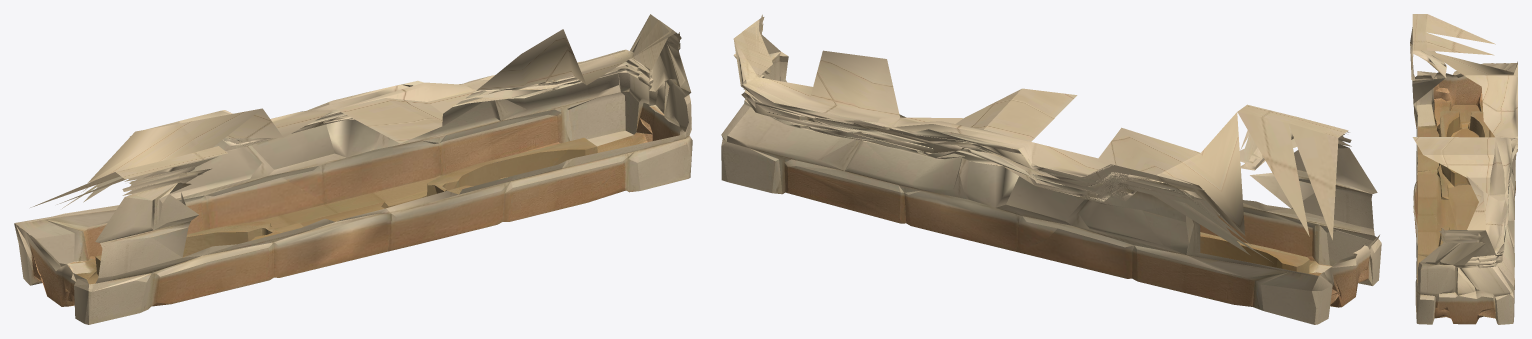
Rendered from wall_wreck.glb.
The picture shows the model from 3 angles, left to right: view 1: azimuth 30°, elevation 25°; view 2: azimuth 150°, elevation 25°; view 3: azimuth 270°, elevation 25°; orthographic projection. The views are drawn at different scales.
Parts seen in each view (by area): view 1: wall.001, roof.001; view 2: wall.001, roof.001; view 3: wall.001, roof.001.
Part boxes in pixels (bbox=[...]): wall.001: bbox=[14, 14, 692, 324]; roof.001: bbox=[30, 20, 676, 207]; wall.001: bbox=[721, 14, 1381, 324]; roof.001: bbox=[734, 20, 1348, 239]; wall.001: bbox=[1410, 27, 1517, 324]; roof.001: bbox=[1412, 14, 1517, 253].
Bounding box in the file's own units: 3.01 × 0.6564 × 0.6133.
Materials: 1 (1 with a texture image).
